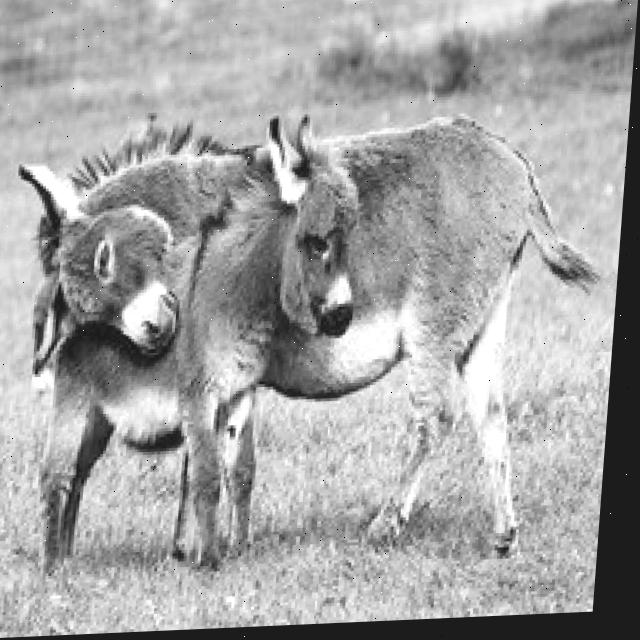Donkey: (0, 95, 614, 584), (0, 107, 288, 582)
